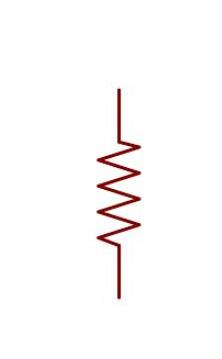resistor: (82, 106, 153, 267)
